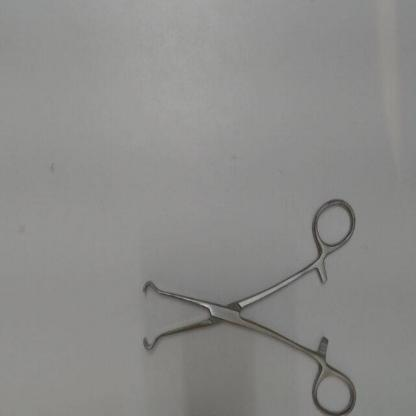Babcock Tissue Forceps: (131, 191, 364, 415)
